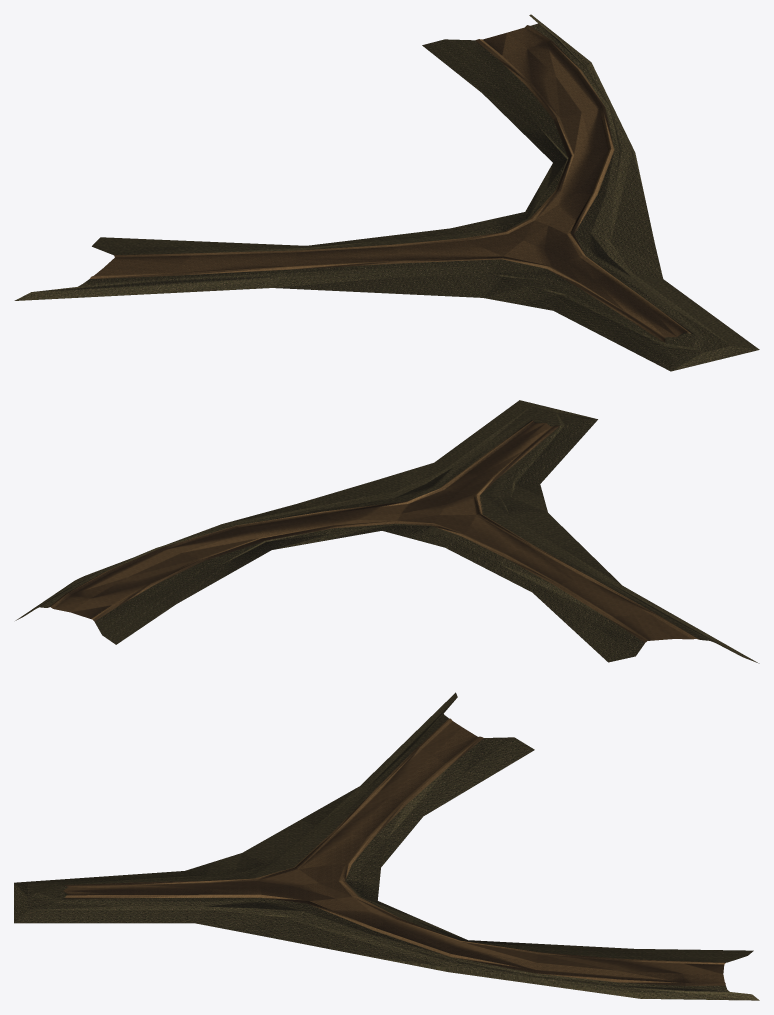
Rendered from Road.fbx.
The picture shows the model from 3 angles, top to bottom: view 1: azimuth 30°, elevation 25°; view 2: azimuth 150°, elevation 25°; view 3: azimuth 270°, elevation 25°; orthographic projection. The views are drawn at different scales.
Parts seen in each view (by area): view 1: Plane.001; view 2: Plane.001; view 3: Plane.001.
Boxes of the visible parts, x1=… form: Plane.001: x1=14, y1=14, x2=759, y2=371; Plane.001: x1=15, y1=400, x2=759, y2=663; Plane.001: x1=14, y1=692, x2=759, y2=1000.
Bounding box in the file's own units: 7774 × 106 × 7922.
